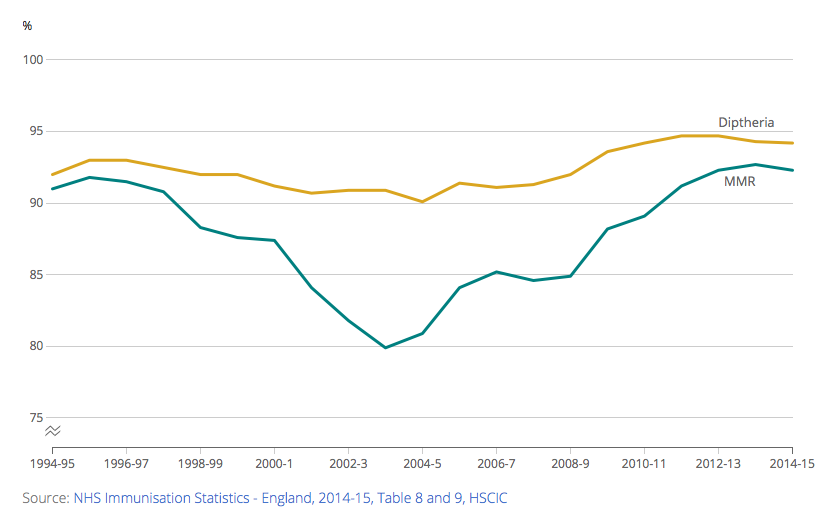S1_AxisNotZero: (6, 402, 824, 482)
